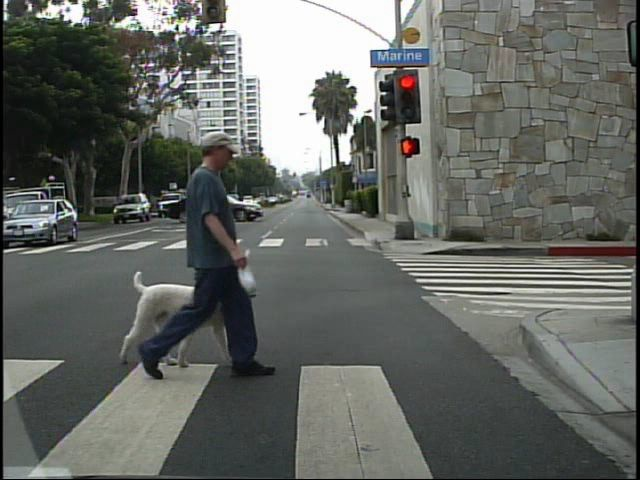person: (130, 118, 268, 386)
